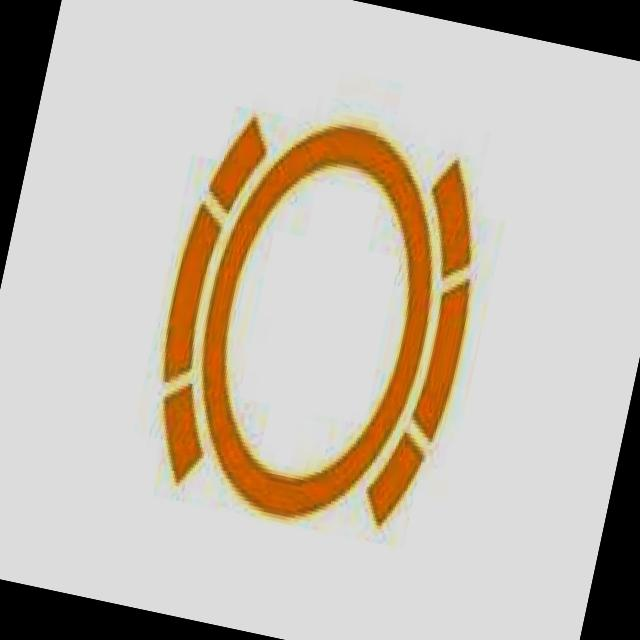kontrolka: (99, 24, 544, 562)
